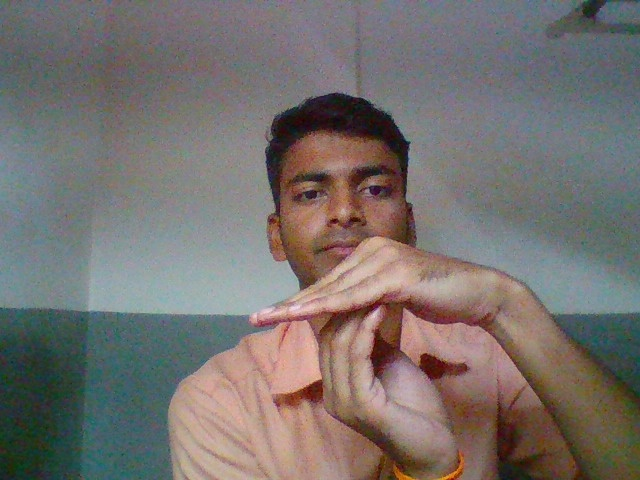J: (240, 232, 535, 463)
